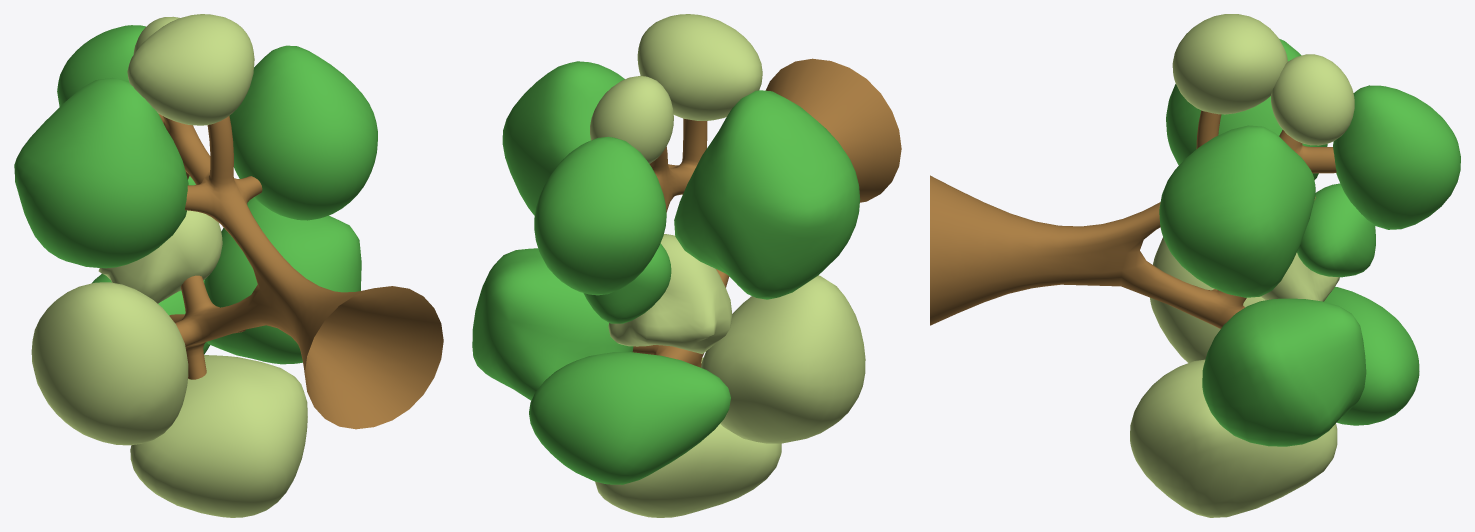
Rendered from Tree2.fbx.
3 views of the same model, side by side, from view 1: azimuth 30°, elevation 25°; view 2: azimuth 150°, elevation 25°; view 3: azimuth 270°, elevation 25° (orthographic). The views are drawn at different scales.
Parts seen in each view (by area): view 1: Sphere.002, Plane; view 2: Sphere.002, Plane; view 3: Sphere.002, Plane.
Part boxes in pixels (box(x1,y1,x2,y2)): Sphere.002: box(14, 14, 377, 517); Plane: box(158, 113, 443, 429); Sphere.002: box(472, 14, 865, 517); Plane: box(632, 58, 901, 367); Sphere.002: box(1130, 14, 1460, 517); Plane: box(930, 110, 1336, 328).
Size of the model in its own units: 708 by 978 by 982.
